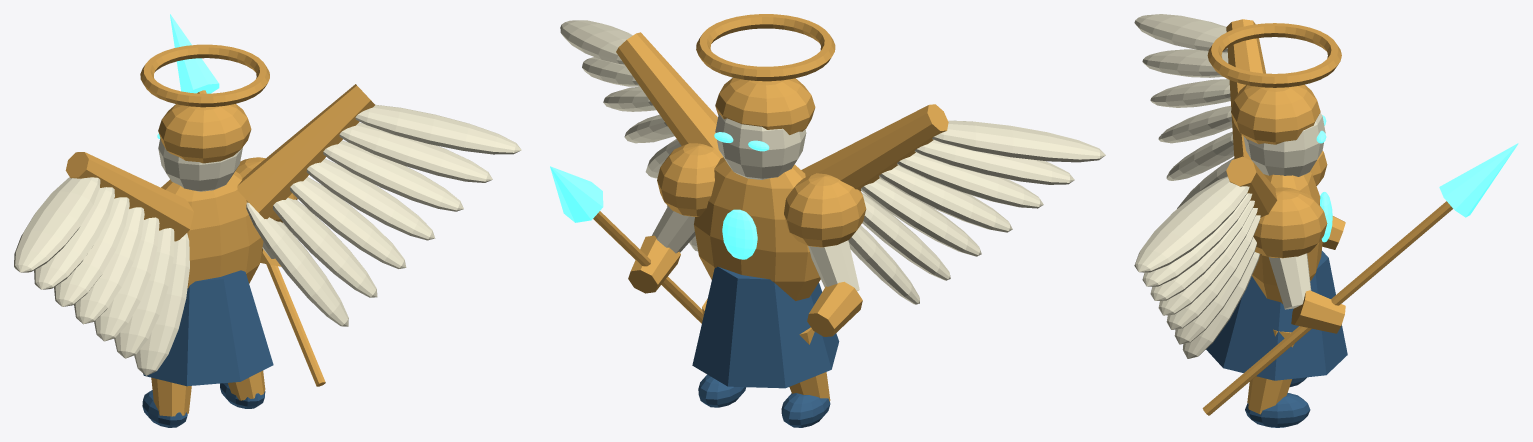
Rendered from angel.glb.
The picture shows the model from 3 angles, left to right: view 1: azimuth 30°, elevation 25°; view 2: azimuth 150°, elevation 25°; view 3: azimuth 270°, elevation 25°; orthographic projection. The views are drawn at different scales.
Parts seen in each view (by area): view 1: Body, WingR, WingL; view 2: Body, WingL, WingR; view 3: Body, WingR, WingL.
Part boxes in pixels (x1,y1,x2,y2): Body: (140,14,325,427); WingR: (237,84,521,326); WingL: (14,152,193,375); Body: (550,14,866,427); WingL: (801,104,1105,304); WingR: (560,20,721,251); Body: (1202,23,1518,427); WingR: (1134,156,1277,358); WingL: (1134,14,1265,208).
Bounding box in the file's own units: 1.88 × 1.24 × 1.21.
